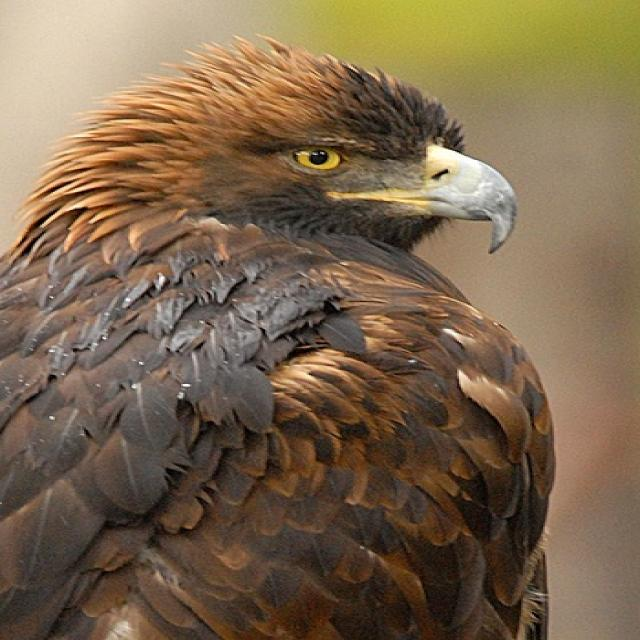bird: (3, 35, 557, 639)
